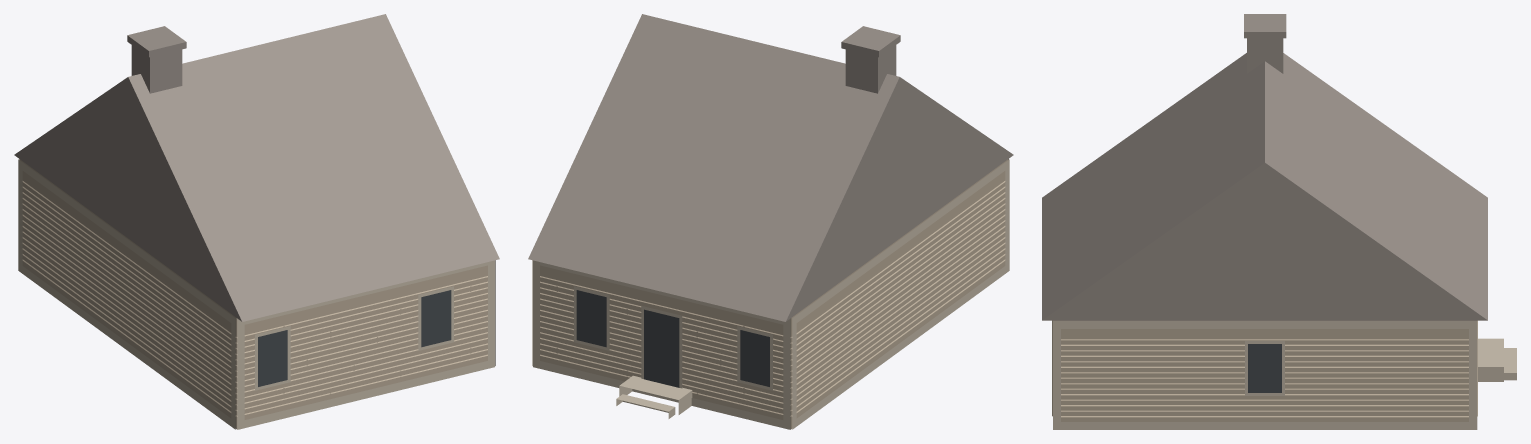
The model's file is recon_1835_south_d5_016__inferred_1835.glb.
3 views of the same model, side by side, from view 1: azimuth 30°, elevation 25°; view 2: azimuth 150°, elevation 25°; view 3: azimuth 270°, elevation 25° (orthographic). The views are drawn at different scales.
Parts seen in each view (by area): view 1: recon_1835_south_d5_016__inferred_1835; view 2: recon_1835_south_d5_016__inferred_1835; view 3: recon_1835_south_d5_016__inferred_1835.
Part boxes in pixels (<box>): recon_1835_south_d5_016__inferred_1835: <box>14,14,499,429</box>; recon_1835_south_d5_016__inferred_1835: <box>528,14,1013,429</box>; recon_1835_south_d5_016__inferred_1835: <box>1042,14,1516,429</box>.
Bounding box in the file's own units: 6.8 × 7.59 × 10.99.
